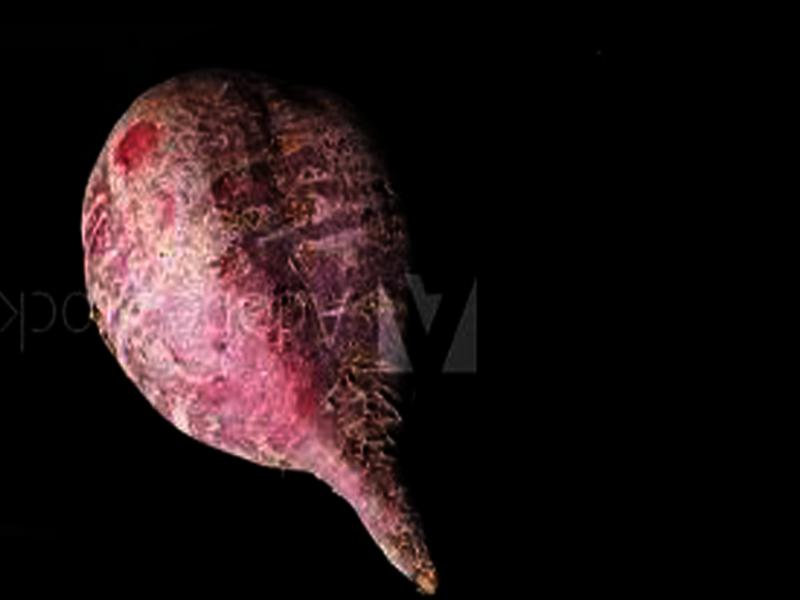Beet: (77, 72, 436, 594)
